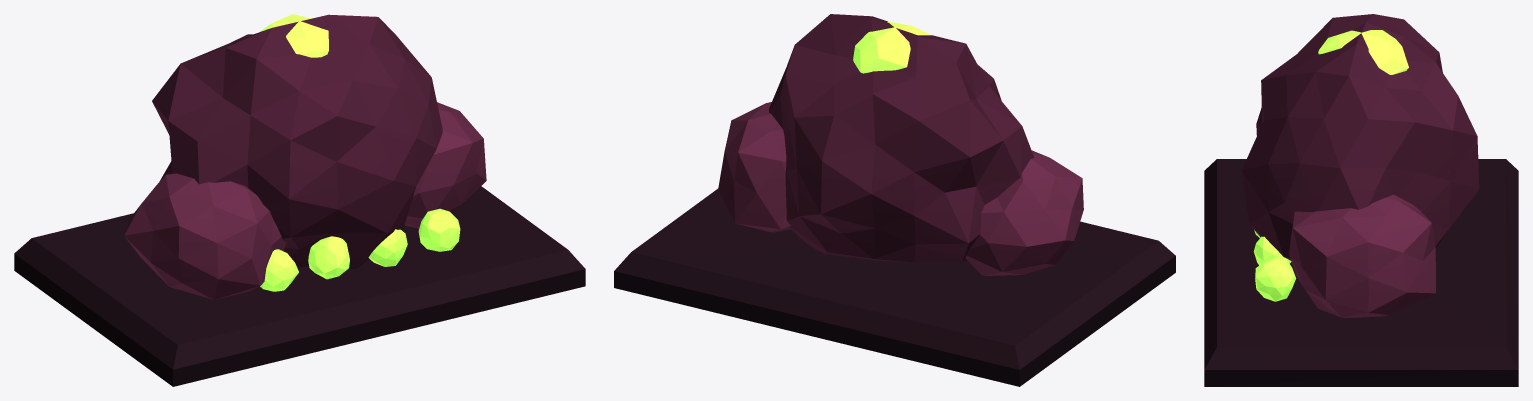
The model's file is creep-tumour.glb.
3 views of the same model, side by side, from view 1: azimuth 30°, elevation 25°; view 2: azimuth 150°, elevation 25°; view 3: azimuth 270°, elevation 25° (orthographic).
Bounding box in the file's own units: 3 × 1.8 × 2.
